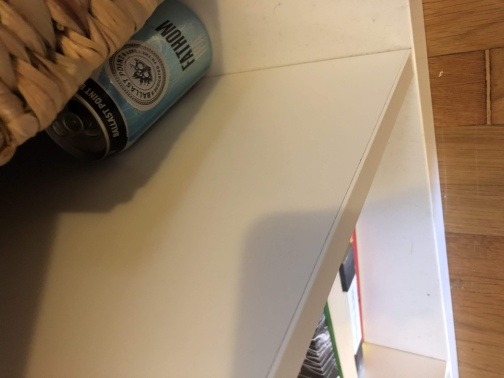can: (43, 1, 216, 159)
